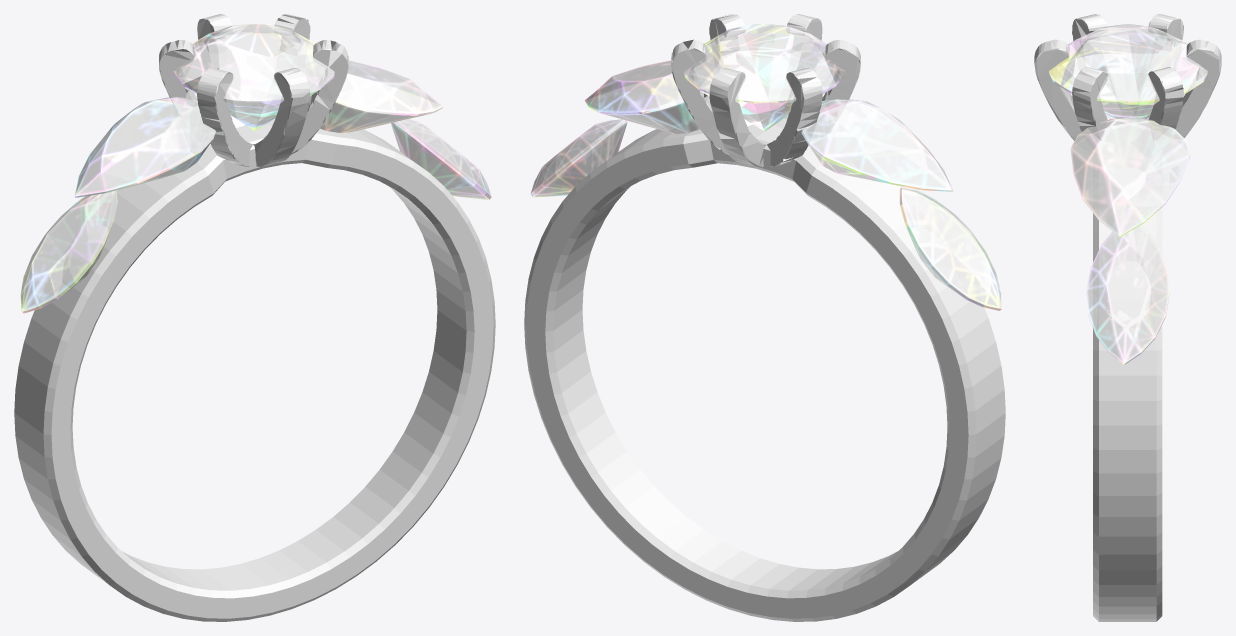
3 views of the same model, side by side, from view 1: azimuth 30°, elevation 25°; view 2: azimuth 150°, elevation 25°; view 3: azimuth 270°, elevation 25° (orthographic).
Parts seen in each view (by area): view 1: ThinRing3, ThinRing1, Prongs, ThinRing2, ThinRing; view 2: ThinRing3, ThinRing1, Prongs, ThinRing2, ThinRing; view 3: ThinRing3, Prongs, ThinRing1, ThinRing2, ThinRing.
Boxes of the visible parts, x1,y1,x2,y2 form: ThinRing3: (14,121,495,621); ThinRing1: (74,60,443,197); Prongs: (159,14,348,166); ThinRing2: (20,119,491,313); ThinRing: (173,23,334,131); ThinRing3: (524,122,1005,621); ThinRing1: (584,60,953,191); Prongs: (671,14,860,166); ThinRing2: (530,119,1001,310); ThinRing: (684,24,845,131); ThinRing3: (1093,168,1162,621); Prongs: (1034,14,1221,141); ThinRing1: (1070,117,1190,237); ThinRing2: (1086,225,1169,364); ThinRing: (1049,24,1207,118).
Size of the model in its own units: 295 by 339 by 103.
Materials: 5 (5 with a texture image).
